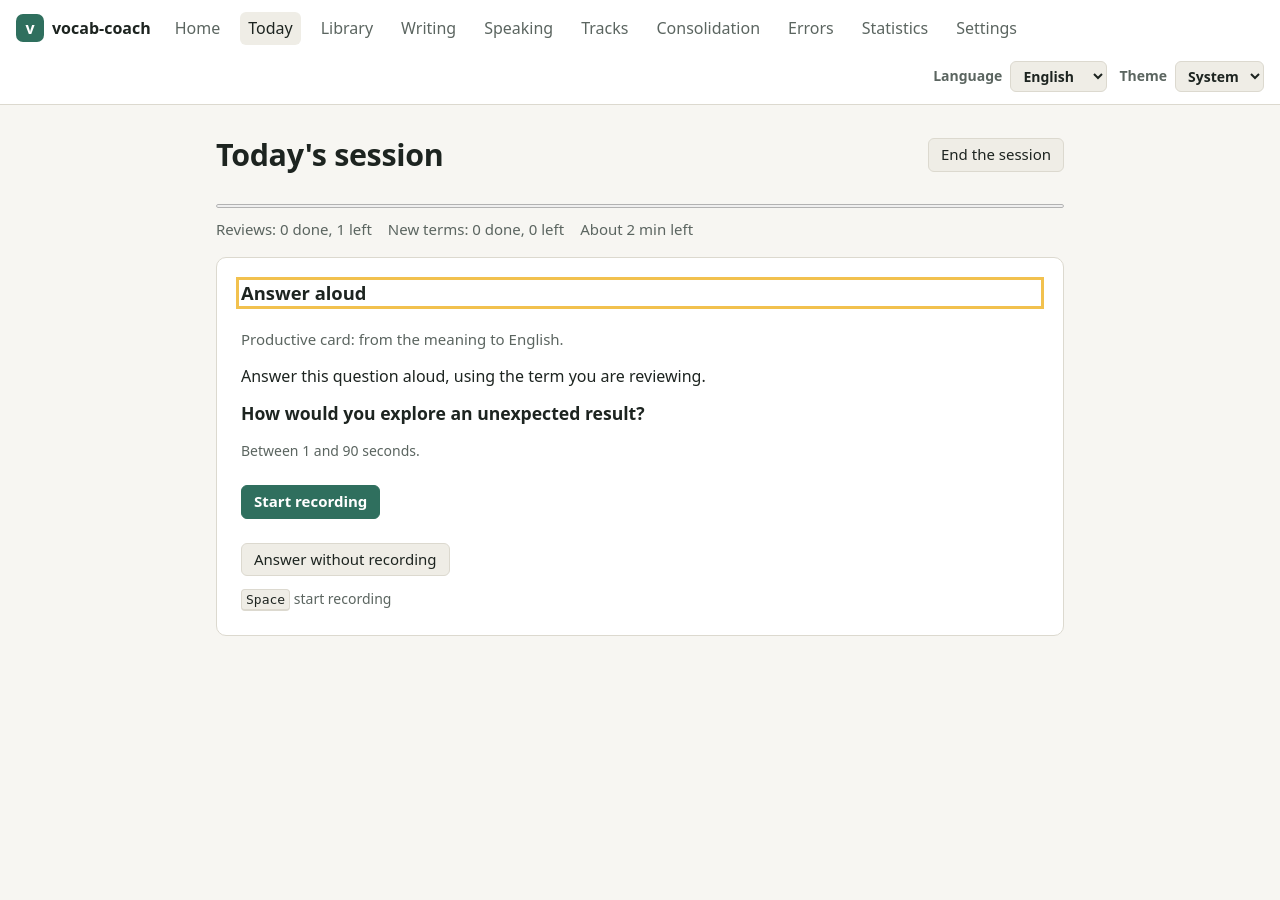
Review player: a spoken answer › says what was heard, corrects it compactly and presents the example as one possibility
The image size is (1280, 900).
Expected: the heading "Answer aloud" is shown, [241,280,366,305]
Click the button "Start recording" at (311, 502), box [241,485,380,519]
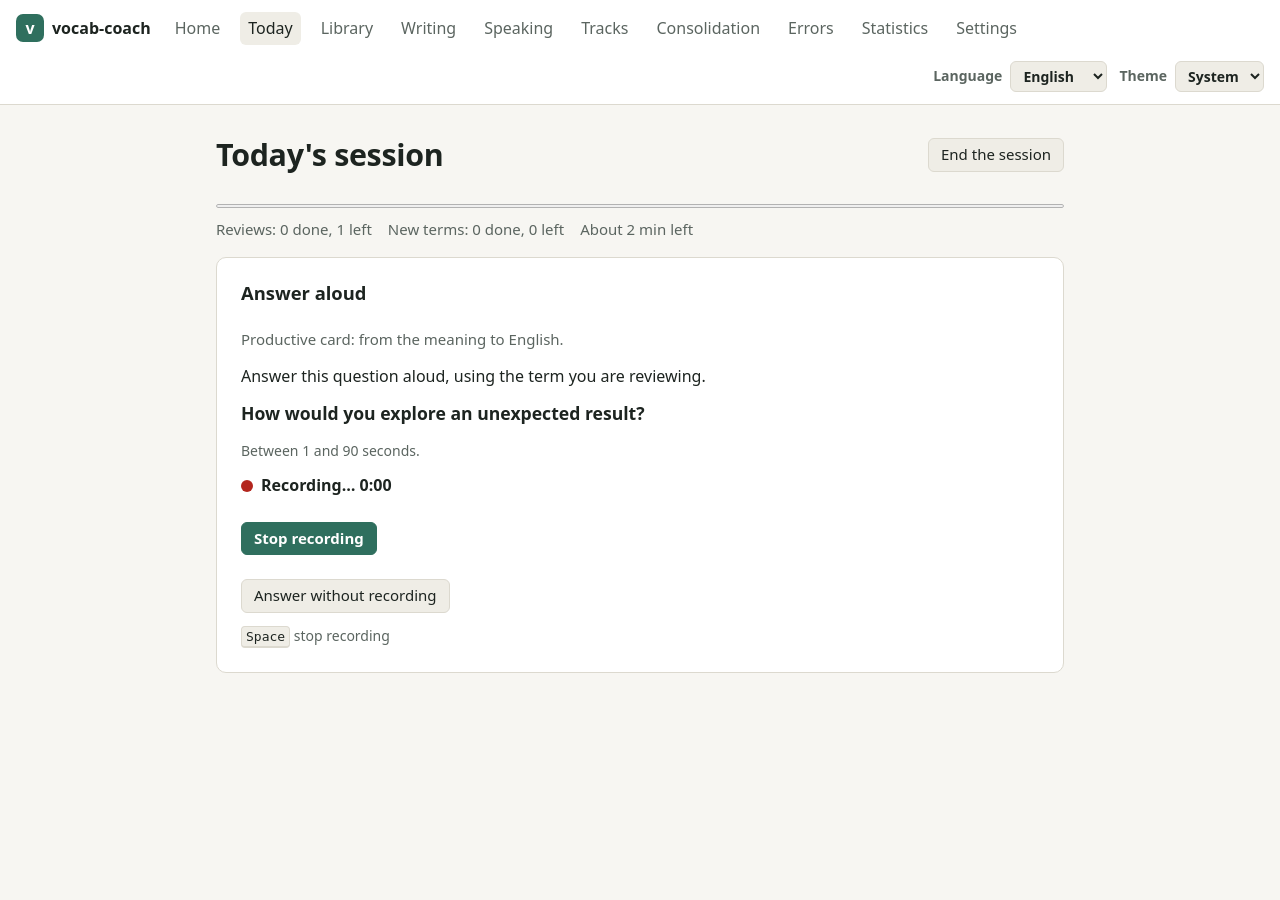
Click the button "Stop recording" at (309, 539), box [241,522,377,556]
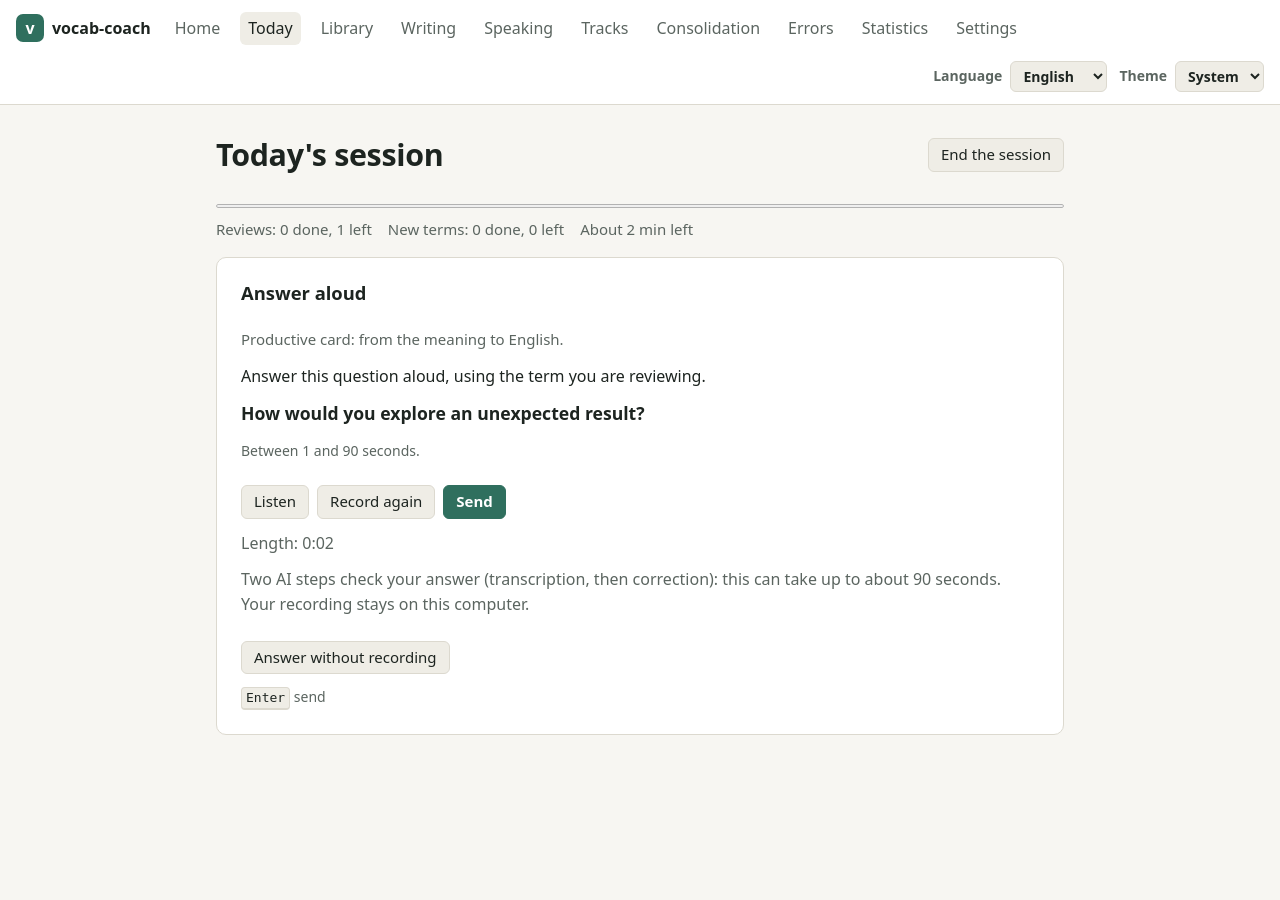
Now the button "Send" is shown
Click the button "Send" at (475, 502), box [443,485,506,519]
(page scrolled)
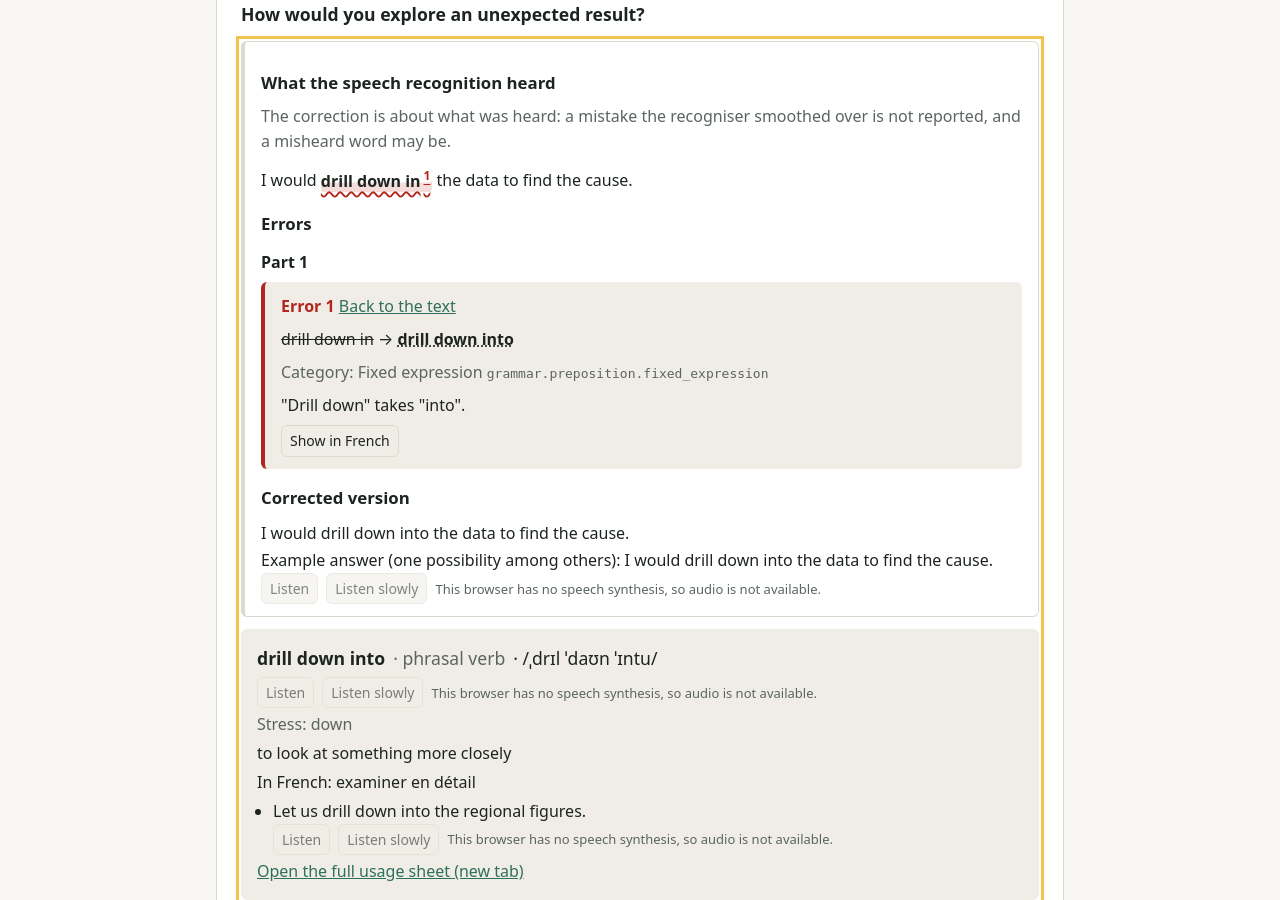
Now the heading "What the speech recognition heard" is shown, box [261,71,556,94]
Now the text "\"Drill down\" takes \"into\"." is shown, box [281,394,465,416]
Now the element "correction" shows "Example answer (one possibility among others):", box [261,549,620,571]
